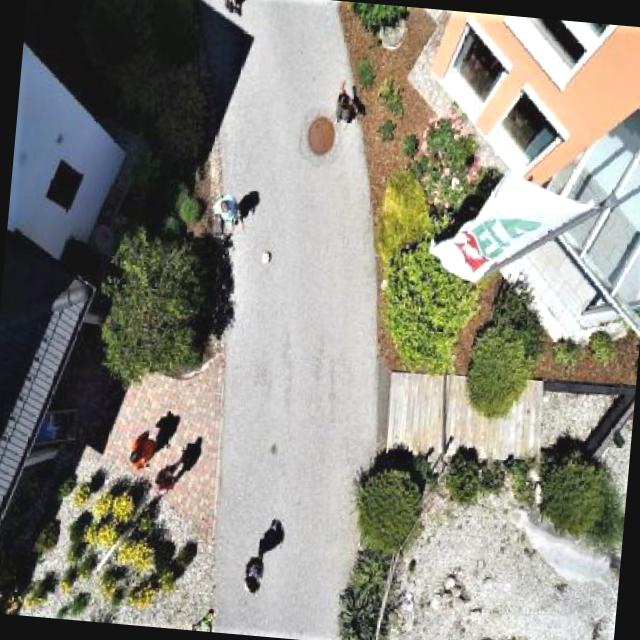Person: (118, 417, 160, 482), (325, 73, 367, 135), (212, 186, 248, 240), (236, 548, 273, 600), (154, 456, 182, 502)
